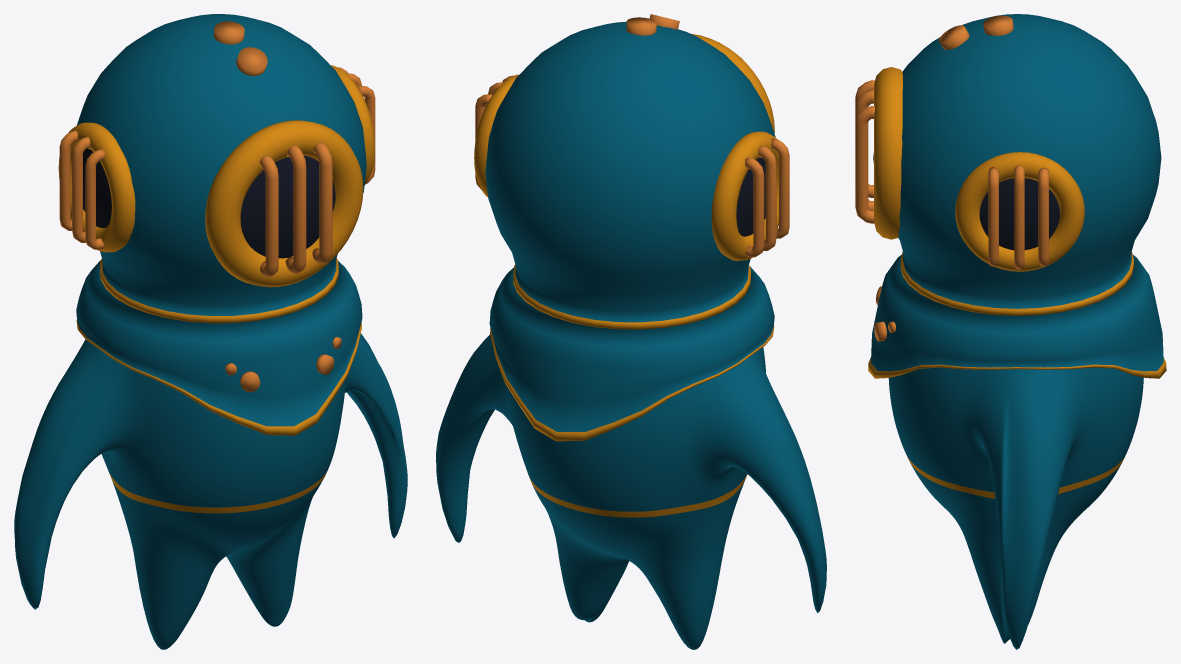
File: Scubaman.fbx
The picture shows the model from 3 angles, left to right: view 1: azimuth 30°, elevation 25°; view 2: azimuth 150°, elevation 25°; view 3: azimuth 270°, elevation 25°; orthographic projection. The views are drawn at different scales.
Visible parts, largest first — view 1: Sphere; view 2: Sphere; view 3: Sphere.
Part boxes in pixels (x1,y1,x2,y2): Sphere: [14, 14, 407, 649]; Sphere: [436, 14, 826, 649]; Sphere: [855, 14, 1166, 649].
Size of the model in its own units: 151 by 229 by 108.
